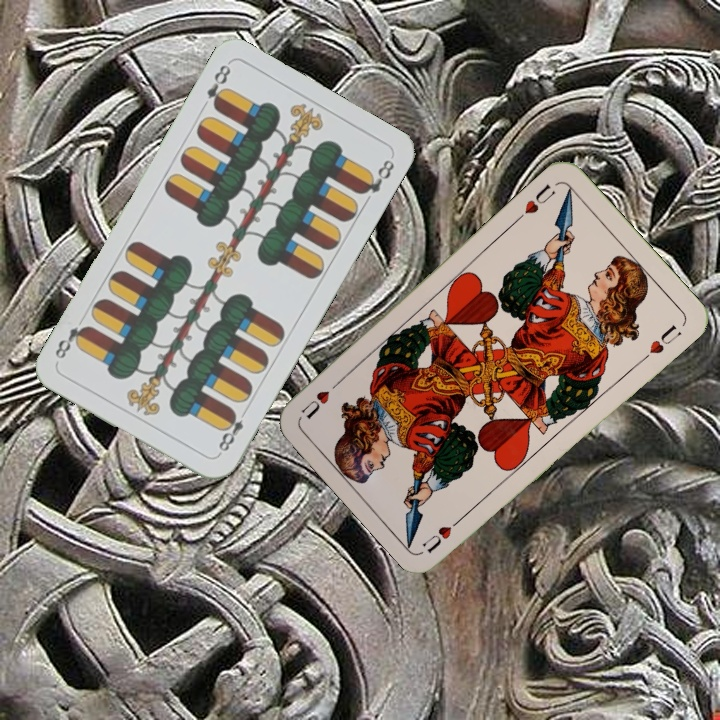E8: (214, 404, 251, 458), (202, 60, 234, 113)
HU: (419, 510, 468, 556), (512, 180, 559, 224)
